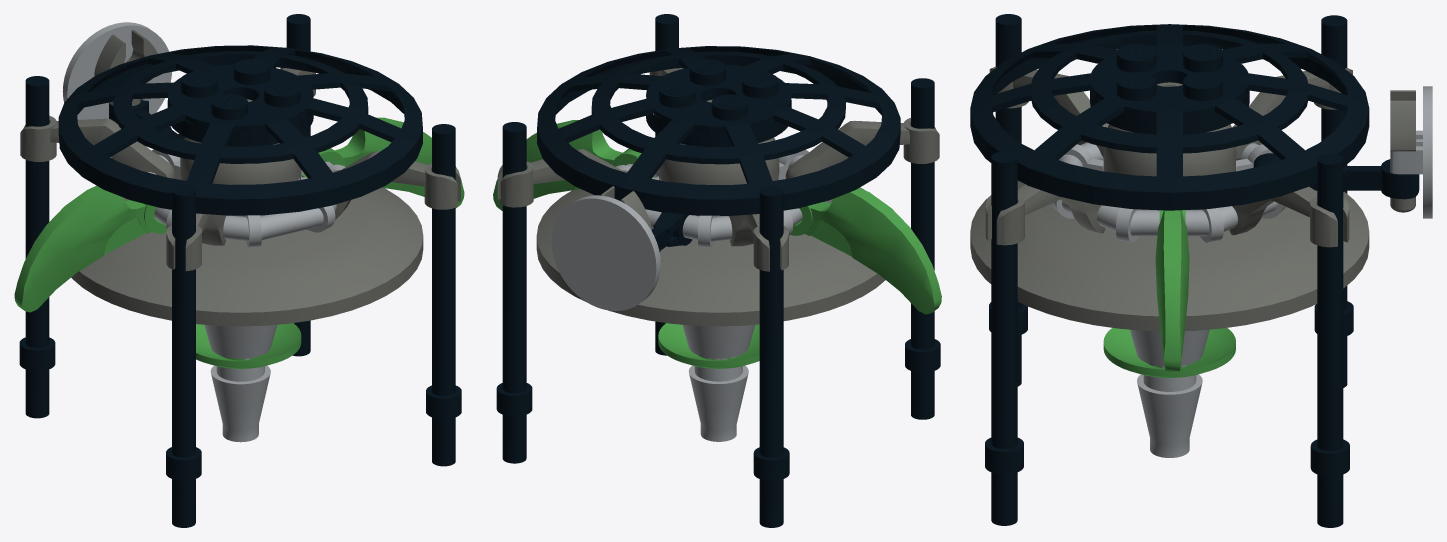
The model's file is laser.dae.
3 views of the same model, side by side, from view 1: azimuth 30°, elevation 25°; view 2: azimuth 150°, elevation 25°; view 3: azimuth 270°, elevation 25° (orthographic). The views are drawn at different scales.
Visible parts, largest first — view 1: Inner-Node-UntitledModel_dot_io-16, Inner-Node-UntitledModel_dot_io-0, Inner-Node-UntitledModel_dot_io-4, Inner-Node-UntitledModel_dot_io-15, Inner-Node-UntitledModel_dot_io-14, Inner-Node-UntitledModel_dot_io-12, Inner-Node-UntitledModel_dot_io-7, Inner-Node-UntitledModel_dot_io-2, Inner-Node-UntitledModel_dot_io-17, Inner-Node-UntitledModel_dot_io-8, Inner-Node-UntitledModel_dot_io-5, Inner-Node-UntitledModel_dot_io-1 (+6 smaller); view 2: Inner-Node-UntitledModel_dot_io-16, Inner-Node-UntitledModel_dot_io-0, Inner-Node-UntitledModel_dot_io-17, Inner-Node-UntitledModel_dot_io-4, Inner-Node-UntitledModel_dot_io-12, Inner-Node-UntitledModel_dot_io-13, Inner-Node-UntitledModel_dot_io-15, Inner-Node-UntitledModel_dot_io-2, Inner-Node-UntitledModel_dot_io-10, Inner-Node-UntitledModel_dot_io-7, Inner-Node-UntitledModel_dot_io-5, Inner-Node-UntitledModel_dot_io-6 (+6 smaller); view 3: Inner-Node-UntitledModel_dot_io-16, Inner-Node-UntitledModel_dot_io-0, Inner-Node-UntitledModel_dot_io-13, Inner-Node-UntitledModel_dot_io-14, Inner-Node-UntitledModel_dot_io-7, Inner-Node-UntitledModel_dot_io-5, Inner-Node-UntitledModel_dot_io-2, Inner-Node-UntitledModel_dot_io-1, Inner-Node-UntitledModel_dot_io-9, Inner-Node-UntitledModel_dot_io-11, Inner-Node-UntitledModel_dot_io-6, Inner-Node-UntitledModel_dot_io-12 (+7 smaller).
Part boxes in pixels (<box>): Inner-Node-UntitledModel_dot_io-16: <box>58,45,422,215</box>; Inner-Node-UntitledModel_dot_io-0: <box>71,174,423,326</box>; Inner-Node-UntitledModel_dot_io-4: <box>14,185,166,312</box>; Inner-Node-UntitledModel_dot_io-15: <box>166,185,201,527</box>; Inner-Node-UntitledModel_dot_io-14: <box>426,124,461,466</box>; Inner-Node-UntitledModel_dot_io-12: <box>19,76,55,418</box>; Inner-Node-UntitledModel_dot_io-7: <box>128,149,345,247</box>; Inner-Node-UntitledModel_dot_io-2: <box>210,365,270,442</box>; Inner-Node-UntitledModel_dot_io-17: <box>62,22,171,119</box>; Inner-Node-UntitledModel_dot_io-8: <box>20,115,174,178</box>; Inner-Node-UntitledModel_dot_io-5: <box>301,117,464,208</box>; Inner-Node-UntitledModel_dot_io-1: <box>196,323,301,368</box>; Inner-Node-UntitledModel_dot_io-16: <box>537,46,900,215</box>; Inner-Node-UntitledModel_dot_io-0: <box>536,174,885,326</box>; Inner-Node-UntitledModel_dot_io-17: <box>551,195,660,310</box>; Inner-Node-UntitledModel_dot_io-4: <box>791,187,941,314</box>; Inner-Node-UntitledModel_dot_io-12: <box>753,186,789,527</box>; Inner-Node-UntitledModel_dot_io-13: <box>496,122,532,463</box>; Inner-Node-UntitledModel_dot_io-15: <box>905,78,940,419</box>; Inner-Node-UntitledModel_dot_io-2: <box>688,365,748,441</box>; Inner-Node-UntitledModel_dot_io-10: <box>785,118,939,178</box>; Inner-Node-UntitledModel_dot_io-7: <box>615,149,831,247</box>; Inner-Node-UntitledModel_dot_io-5: <box>493,120,655,210</box>; Inner-Node-UntitledModel_dot_io-6: <box>658,99,779,184</box>; Inner-Node-UntitledModel_dot_io-16: <box>970,24,1369,210</box>; Inner-Node-UntitledModel_dot_io-0: <box>970,180,1369,331</box>; Inner-Node-UntitledModel_dot_io-13: <box>1310,153,1349,527</box>; Inner-Node-UntitledModel_dot_io-14: <box>985,151,1023,525</box>; Inner-Node-UntitledModel_dot_io-7: <box>1052,142,1285,242</box>; Inner-Node-UntitledModel_dot_io-5: <box>1155,210,1189,371</box>; Inner-Node-UntitledModel_dot_io-2: <box>1137,374,1202,457</box>; Inner-Node-UntitledModel_dot_io-1: <box>1103,328,1235,377</box>; Inner-Node-UntitledModel_dot_io-9: <box>1229,186,1349,247</box>; Inner-Node-UntitledModel_dot_io-11: <box>985,184,1105,245</box>; Inner-Node-UntitledModel_dot_io-6: <box>1103,82,1235,176</box>; Inner-Node-UntitledModel_dot_io-12: <box>1314,15,1353,387</box>.
Bounding box in the file's own units: 168 × 128 × 139.
